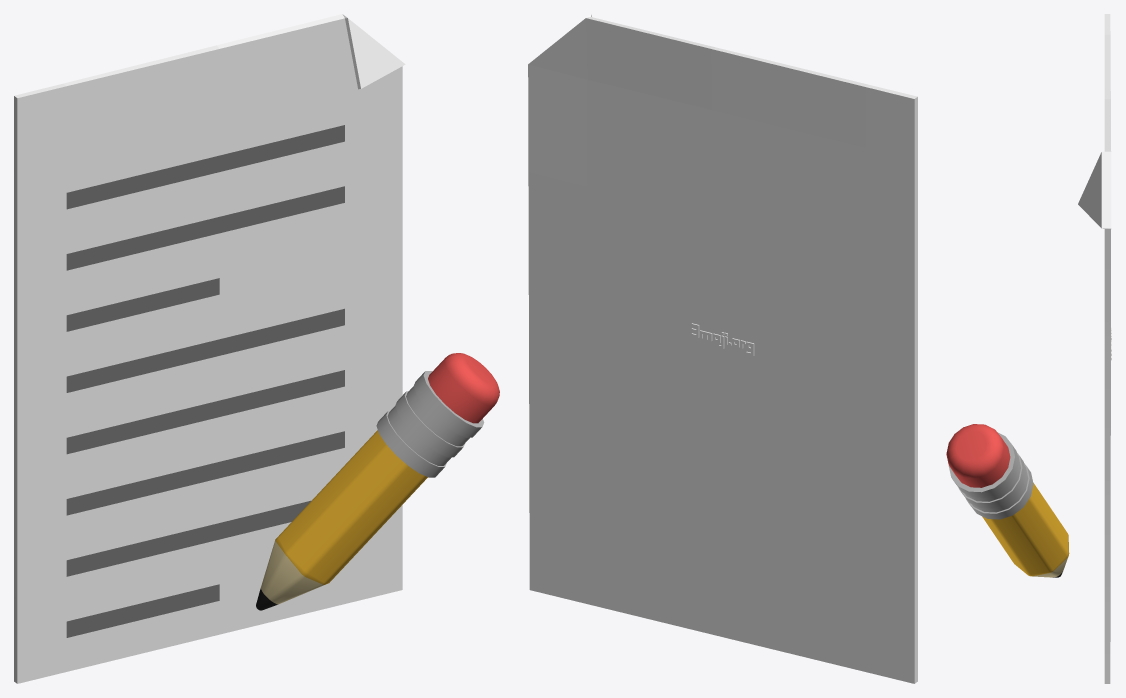
The model's file is memo.gltf.
The picture shows the model from 3 angles, left to right: view 1: azimuth 30°, elevation 25°; view 2: azimuth 150°, elevation 25°; view 3: azimuth 270°, elevation 25°; orthographic projection. The views are drawn at different scales.
Parts seen in each view (by area): view 1: Plane.338, Circle.2564; view 2: Plane.338; view 3: Circle.2564, Plane.338.
Part boxes in pixels (x1,y1,x2,y2): Plane.338: [14, 14, 405, 683]; Circle.2564: [256, 353, 499, 610]; Plane.338: [528, 14, 917, 683]; Circle.2564: [946, 424, 1069, 577]; Plane.338: [1078, 14, 1111, 683].
Bounding box in the file's own units: 1.72 × 2.38 × 0.7014.
1 material, 1 textured.
